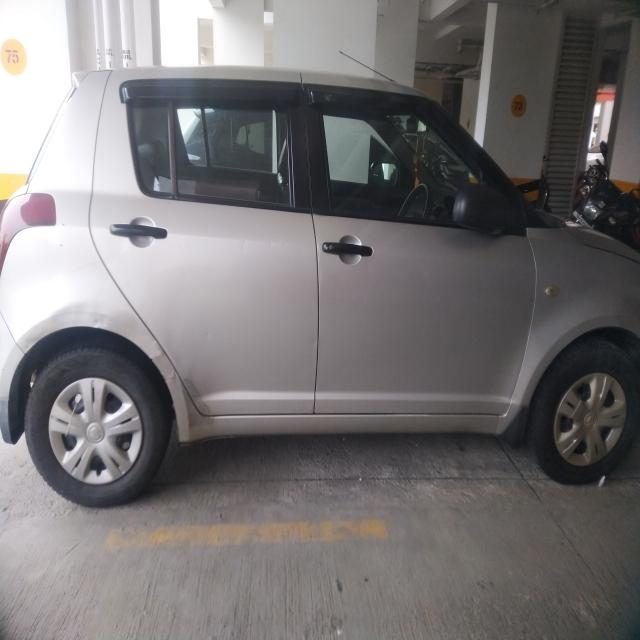scratch: (149, 354, 164, 364), (59, 242, 65, 250), (61, 222, 67, 228)
